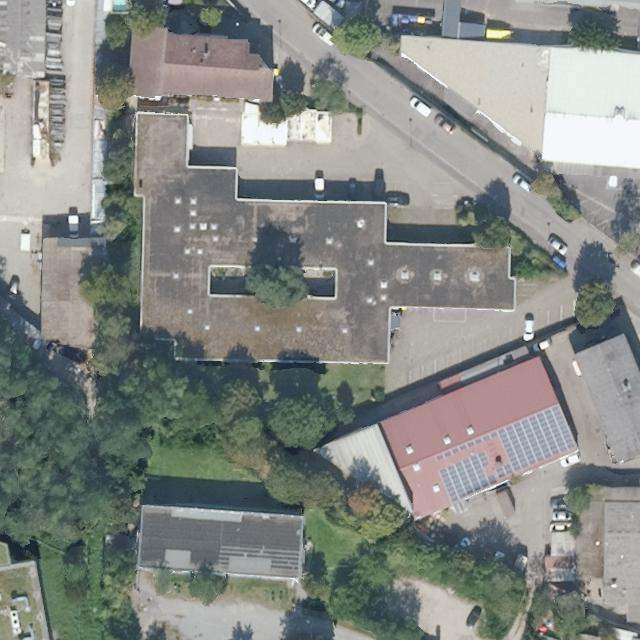PV: (433, 403, 582, 482), (435, 448, 501, 507)
